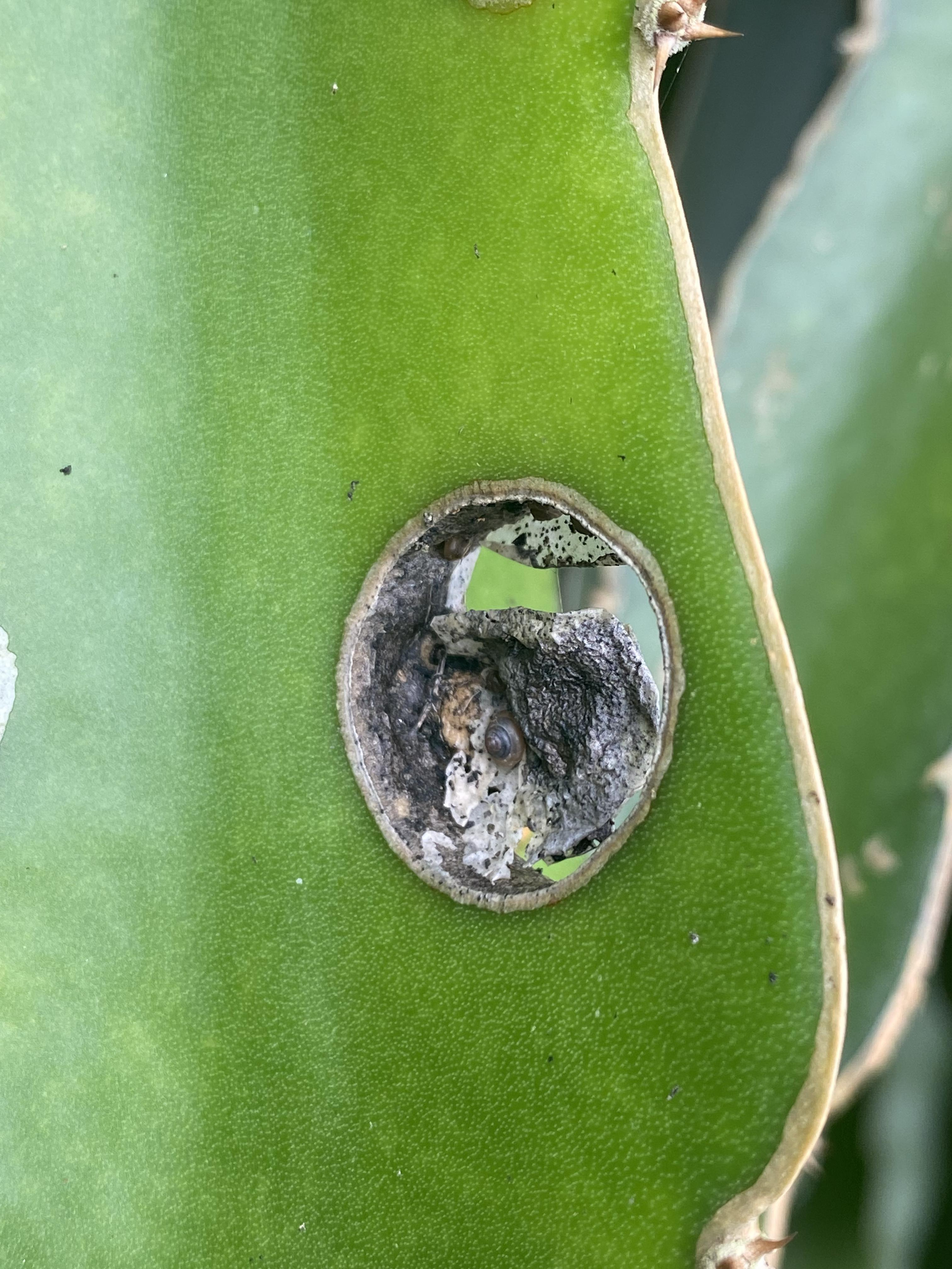stemcanker: (326, 468, 691, 918)
